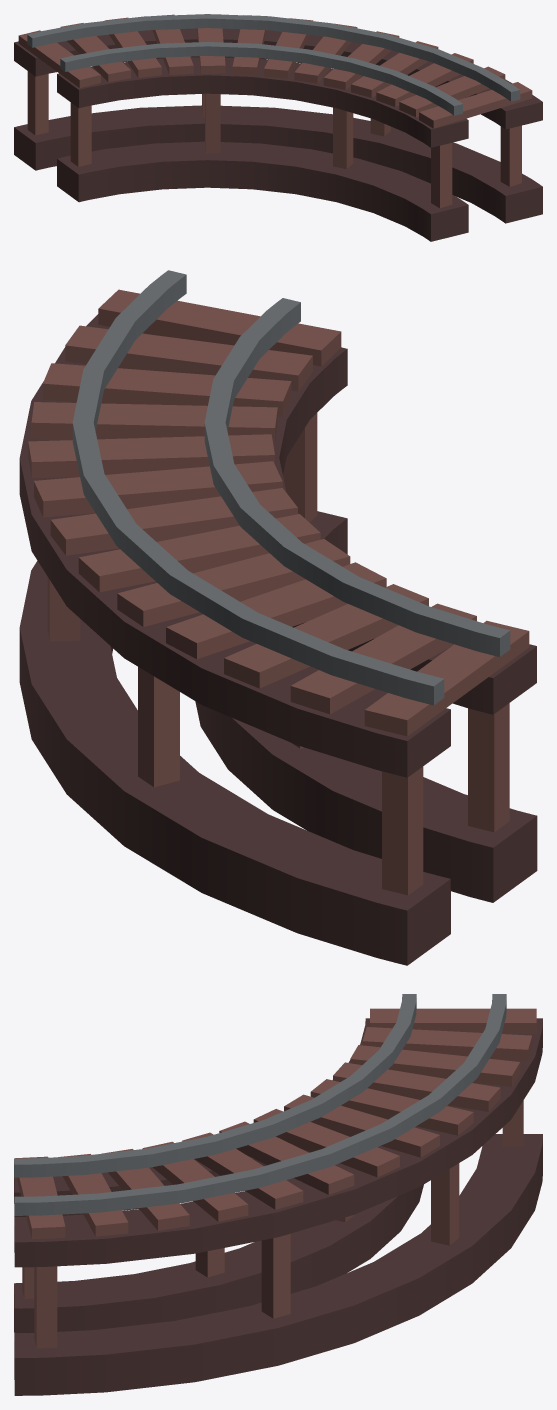
File: DarkRoseWoodMechSmall0_85GaugeLeftTurn1.fbx
The picture shows the model from 3 angles, top to bottom: view 1: azimuth 30°, elevation 25°; view 2: azimuth 150°, elevation 25°; view 3: azimuth 270°, elevation 25°; orthographic projection. The views are drawn at different scales.
Visible parts, largest first — view 1: DarkRoseWoodMechSmall0_85GaugeLeftTurn1; view 2: DarkRoseWoodMechSmall0_85GaugeLeftTurn1; view 3: DarkRoseWoodMechSmall0_85GaugeLeftTurn1.
Part boxes in pixels (x1,y1,x2,y2): DarkRoseWoodMechSmall0_85GaugeLeftTurn1: [14, 14, 542, 241]; DarkRoseWoodMechSmall0_85GaugeLeftTurn1: [19, 270, 537, 965]; DarkRoseWoodMechSmall0_85GaugeLeftTurn1: [14, 994, 542, 1395].
Bounding box in the file's own units: 598 × 221 × 596.
